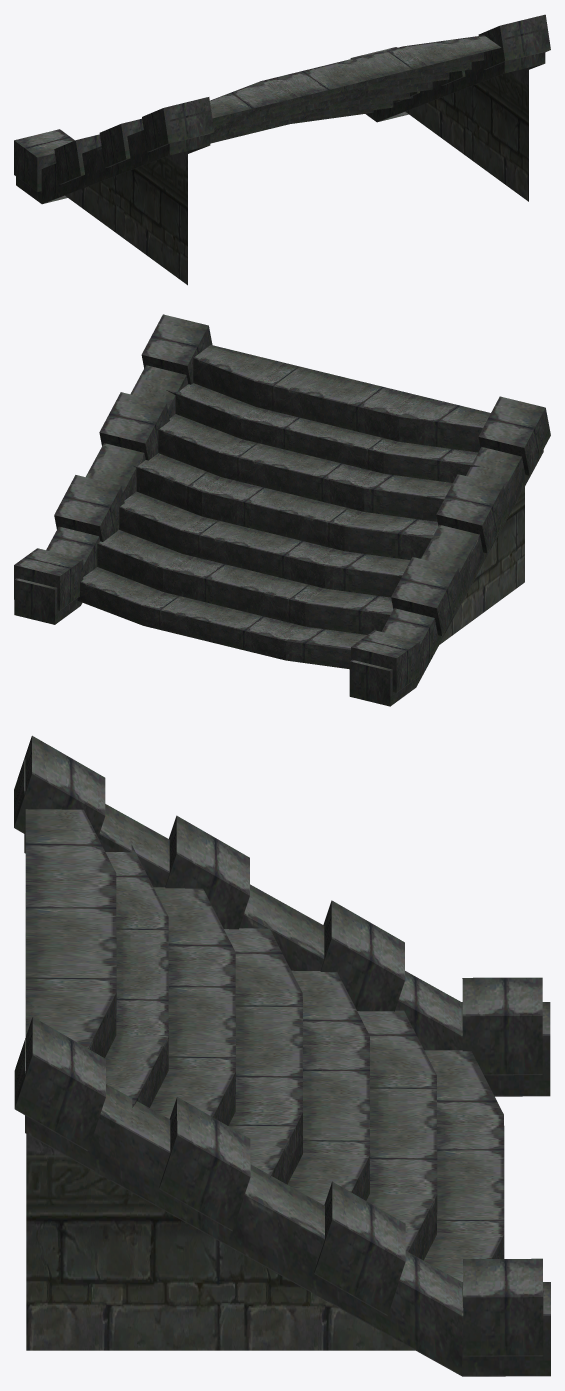
Rendered from first battle_01_louti.FBX.
3 views of the same model, one above another, from view 1: azimuth 30°, elevation 25°; view 2: azimuth 150°, elevation 25°; view 3: azimuth 270°, elevation 25° (orthographic). The views are drawn at different scales.
Visible parts, largest first — view 1: first_battle_01_louti; view 2: first_battle_01_louti; view 3: first_battle_01_louti.
Boxes of the visible parts, x1,y1,x2,y2 form: first_battle_01_louti: [14, 14, 550, 285]; first_battle_01_louti: [14, 314, 550, 706]; first_battle_01_louti: [14, 735, 550, 1376].
Bounding box in the file's own units: 14.18 × 6.7 × 10.06.
